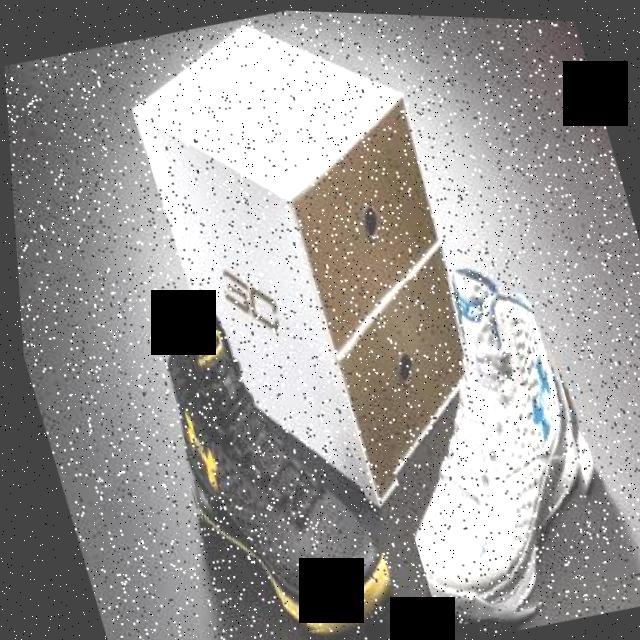shoe: (336, 246, 624, 633), (130, 271, 394, 640)
